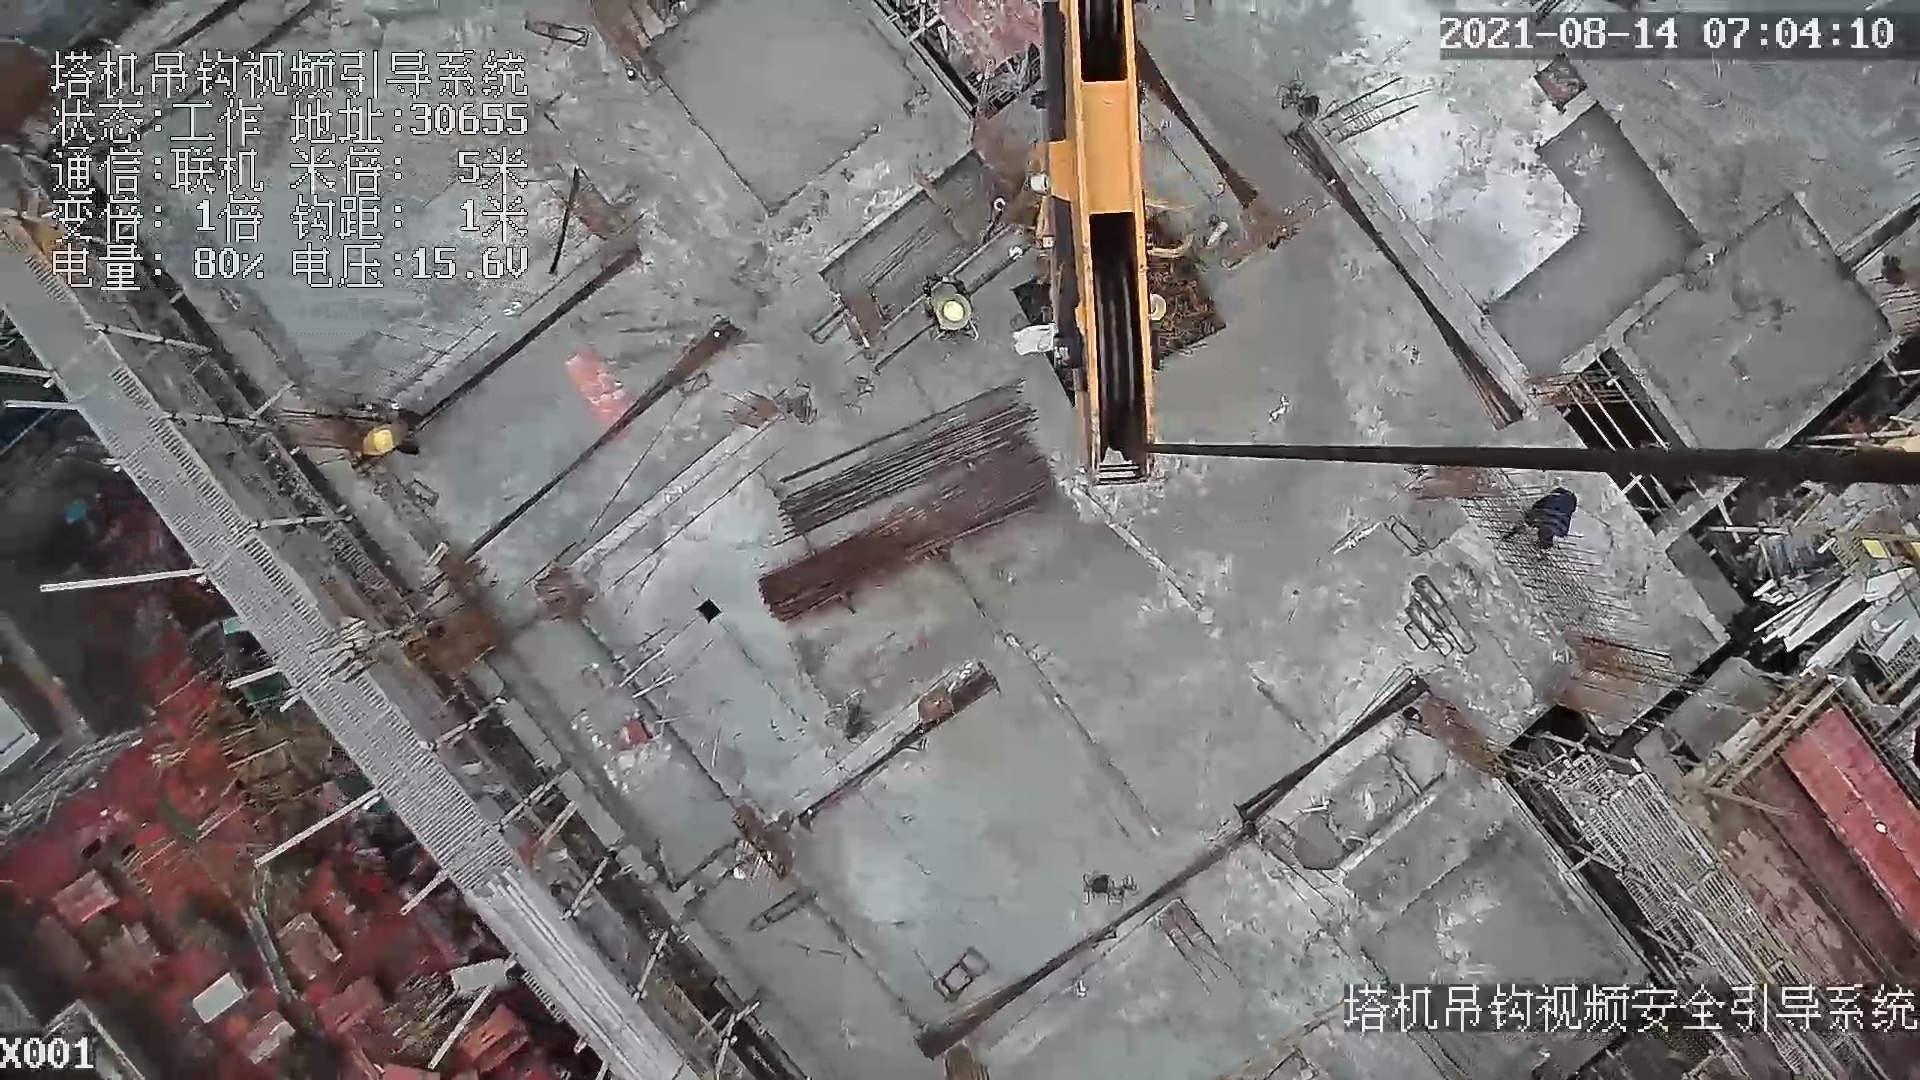hook: (1004, 1, 1165, 492)
person: (1522, 478, 1583, 564), (920, 273, 981, 342)
